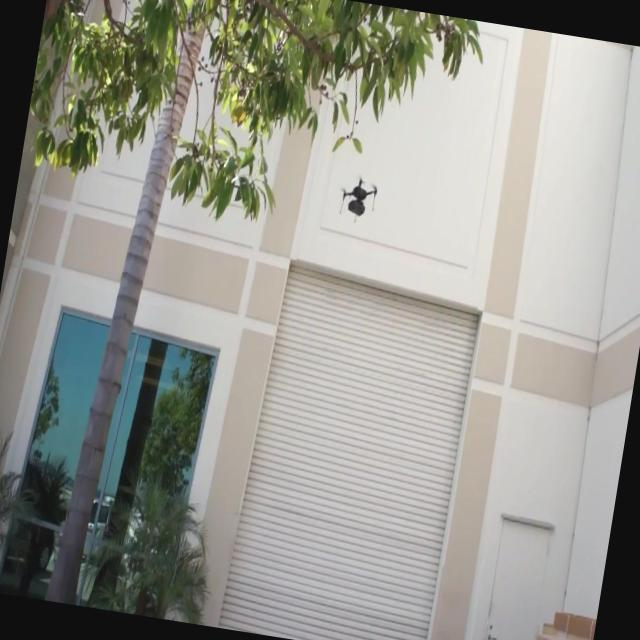drone: (336, 171, 382, 227)
